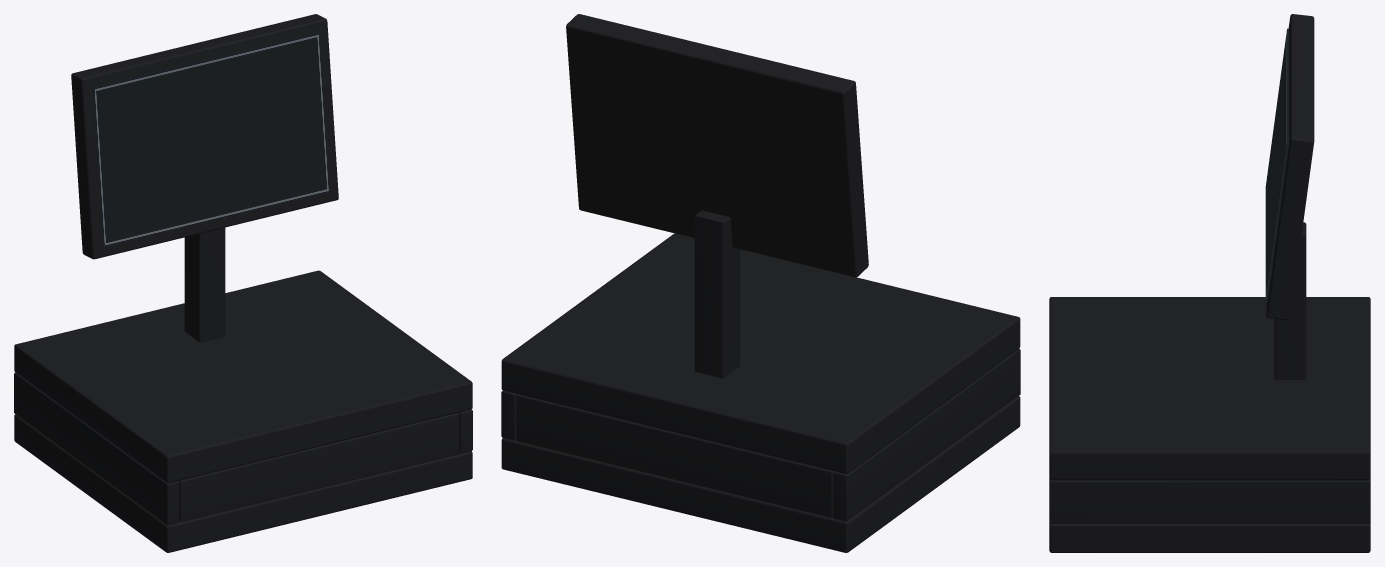
File: vuena-sk-pos-till.glb
The picture shows the model from 3 angles, left to right: view 1: azimuth 30°, elevation 25°; view 2: azimuth 150°, elevation 25°; view 3: azimuth 270°, elevation 25°; orthographic projection. The views are drawn at different scales.
Parts seen in each view (by area): view 1: sk_pos_till, drawer; view 2: sk_pos_till; view 3: sk_pos_till.
Boxes of the visible parts, <box> form: sk_pos_till: <box>14,14,472,552</box>; drawer: <box>178,412,459,522</box>; sk_pos_till: <box>501,14,1020,552</box>; sk_pos_till: <box>1049,14,1370,552</box>.
Bounding box in the file's own units: 0.46 × 0.5495 × 0.4.
Materials: 3 (2 with a texture image).
